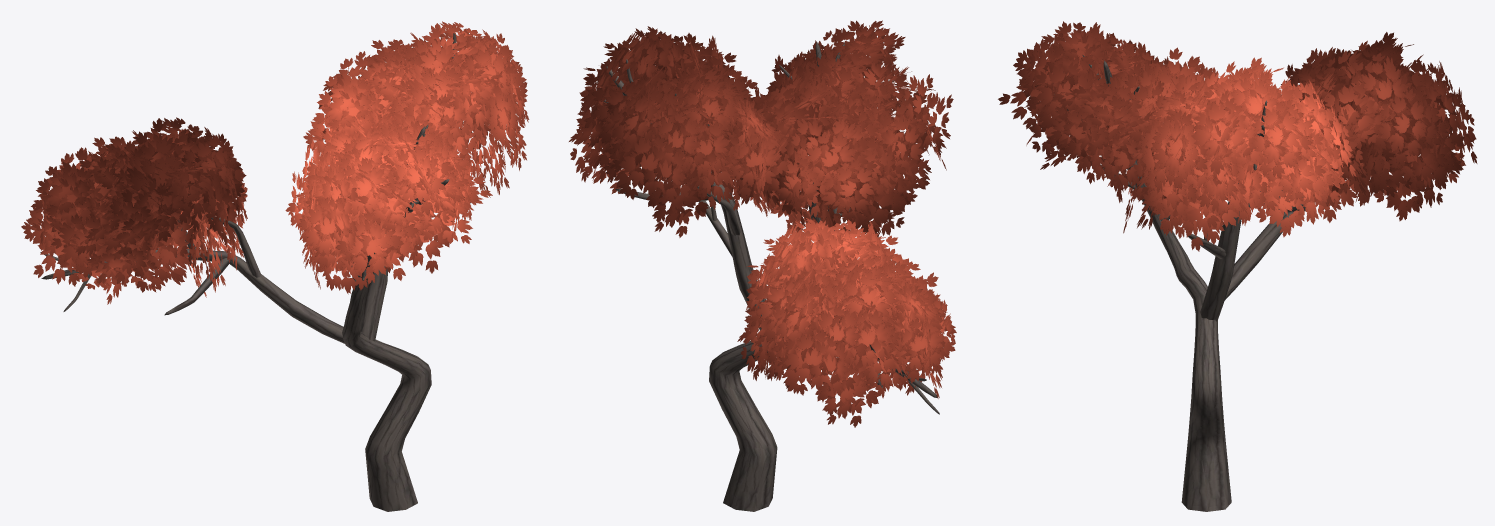
The model's file is MapleTree_2.glb.
The picture shows the model from 3 angles, left to right: view 1: azimuth 30°, elevation 25°; view 2: azimuth 150°, elevation 25°; view 3: azimuth 270°, elevation 25°; orthographic projection. The views are drawn at different scales.
Parts seen in each view (by area): view 1: MapleTree_2; view 2: MapleTree_2; view 3: MapleTree_2.
Boxes of the visible parts, x1,y1,x2,y2 form: MapleTree_2: (21, 21, 529, 511); MapleTree_2: (569, 20, 956, 511); MapleTree_2: (998, 21, 1477, 511).
Bounding box in the file's own units: 6.7 × 6.71 × 6.24.
Materials: 2 (2 with a texture image).
